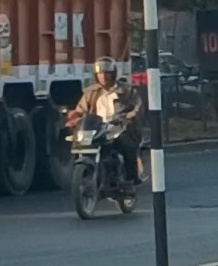BikeWithRider: (57, 52, 155, 222)
Helmet: (88, 53, 122, 88)
